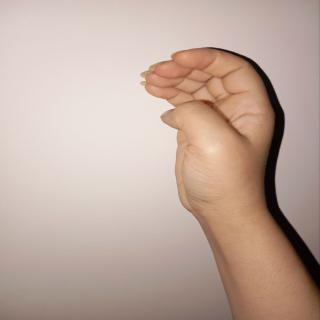JEEM: (126, 42, 284, 226)
